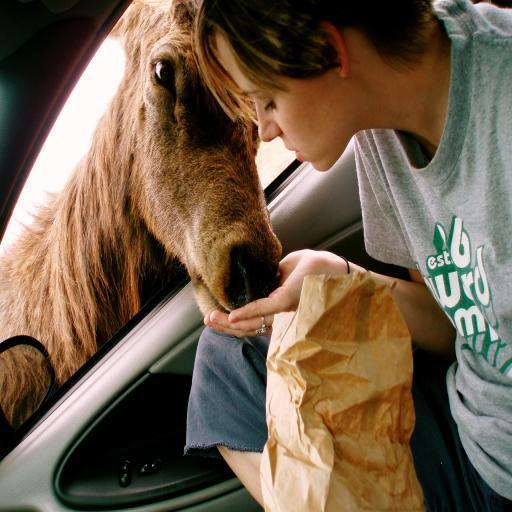horse: (0, 0, 284, 389)
